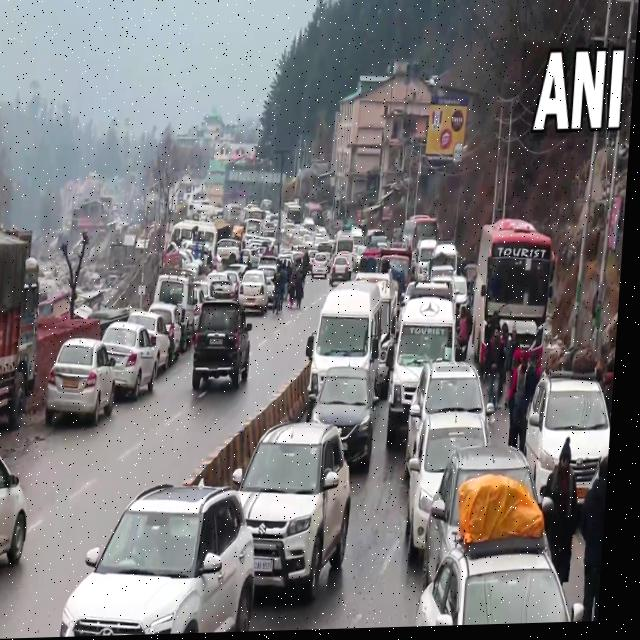plate: (261, 559, 285, 577), (65, 376, 86, 390), (212, 338, 230, 349), (250, 300, 260, 305), (341, 276, 348, 280)
